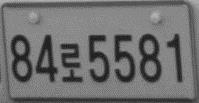1: (165, 31, 183, 83)
4: (34, 33, 58, 82)
5: (87, 34, 110, 83), (113, 33, 136, 82)
8: (138, 32, 162, 83), (9, 34, 33, 82)
로: (59, 43, 83, 83)
